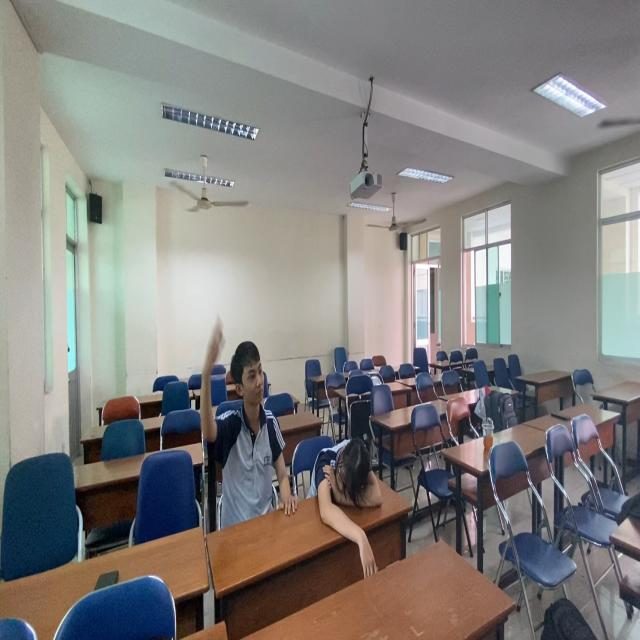raise_hand: (198, 318, 300, 523)
sleep: (305, 431, 391, 529)
